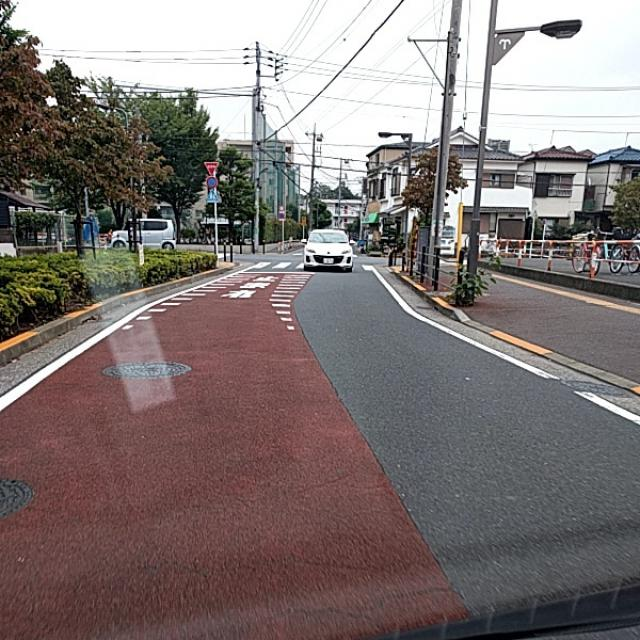pothole: (350, 425, 421, 530)
